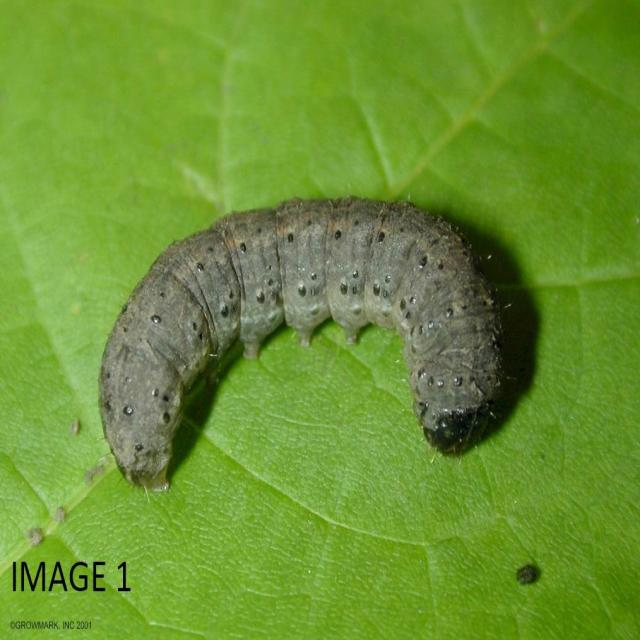black cutworm: (98, 181, 522, 494)
